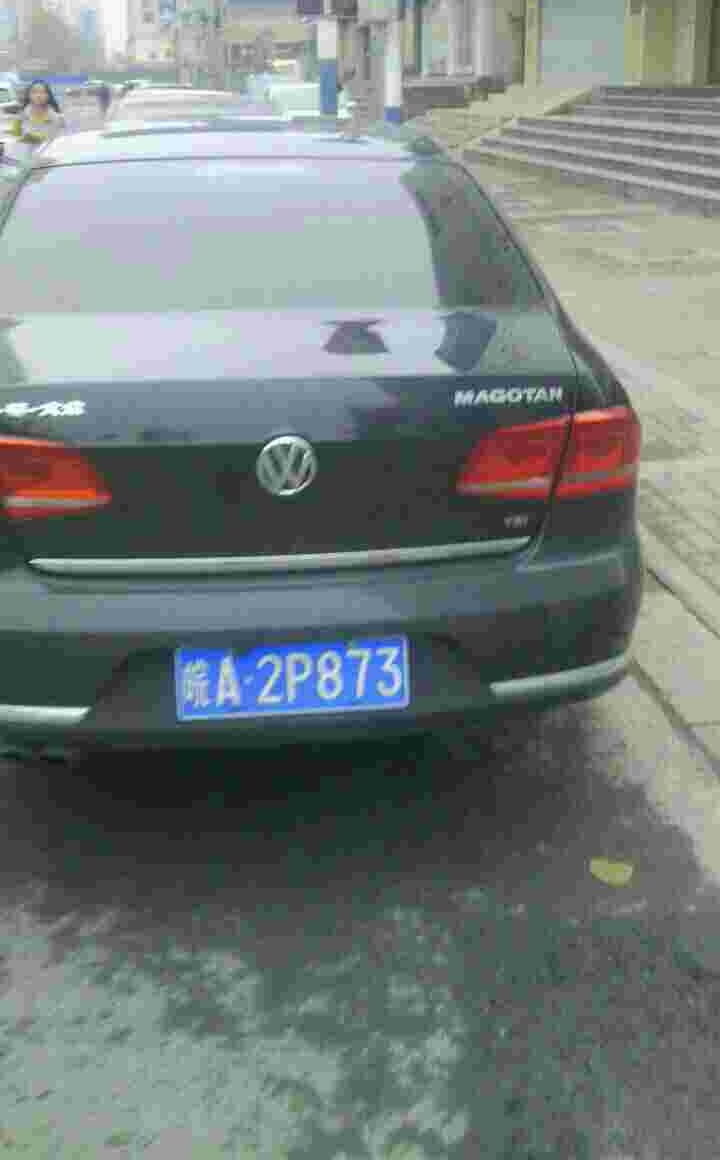plate: (181, 630, 413, 724)
